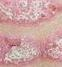plaque psoriasis: (0, 0, 62, 26), (0, 32, 41, 67), (42, 24, 62, 67)
